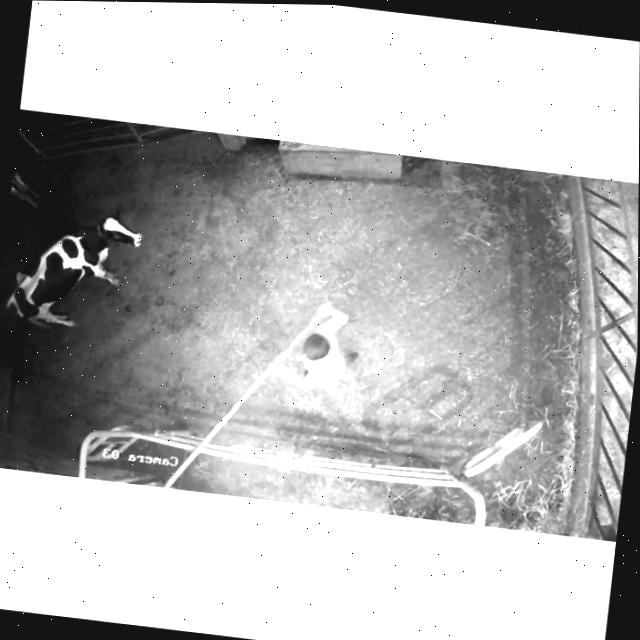stand: (0, 192, 186, 357)
